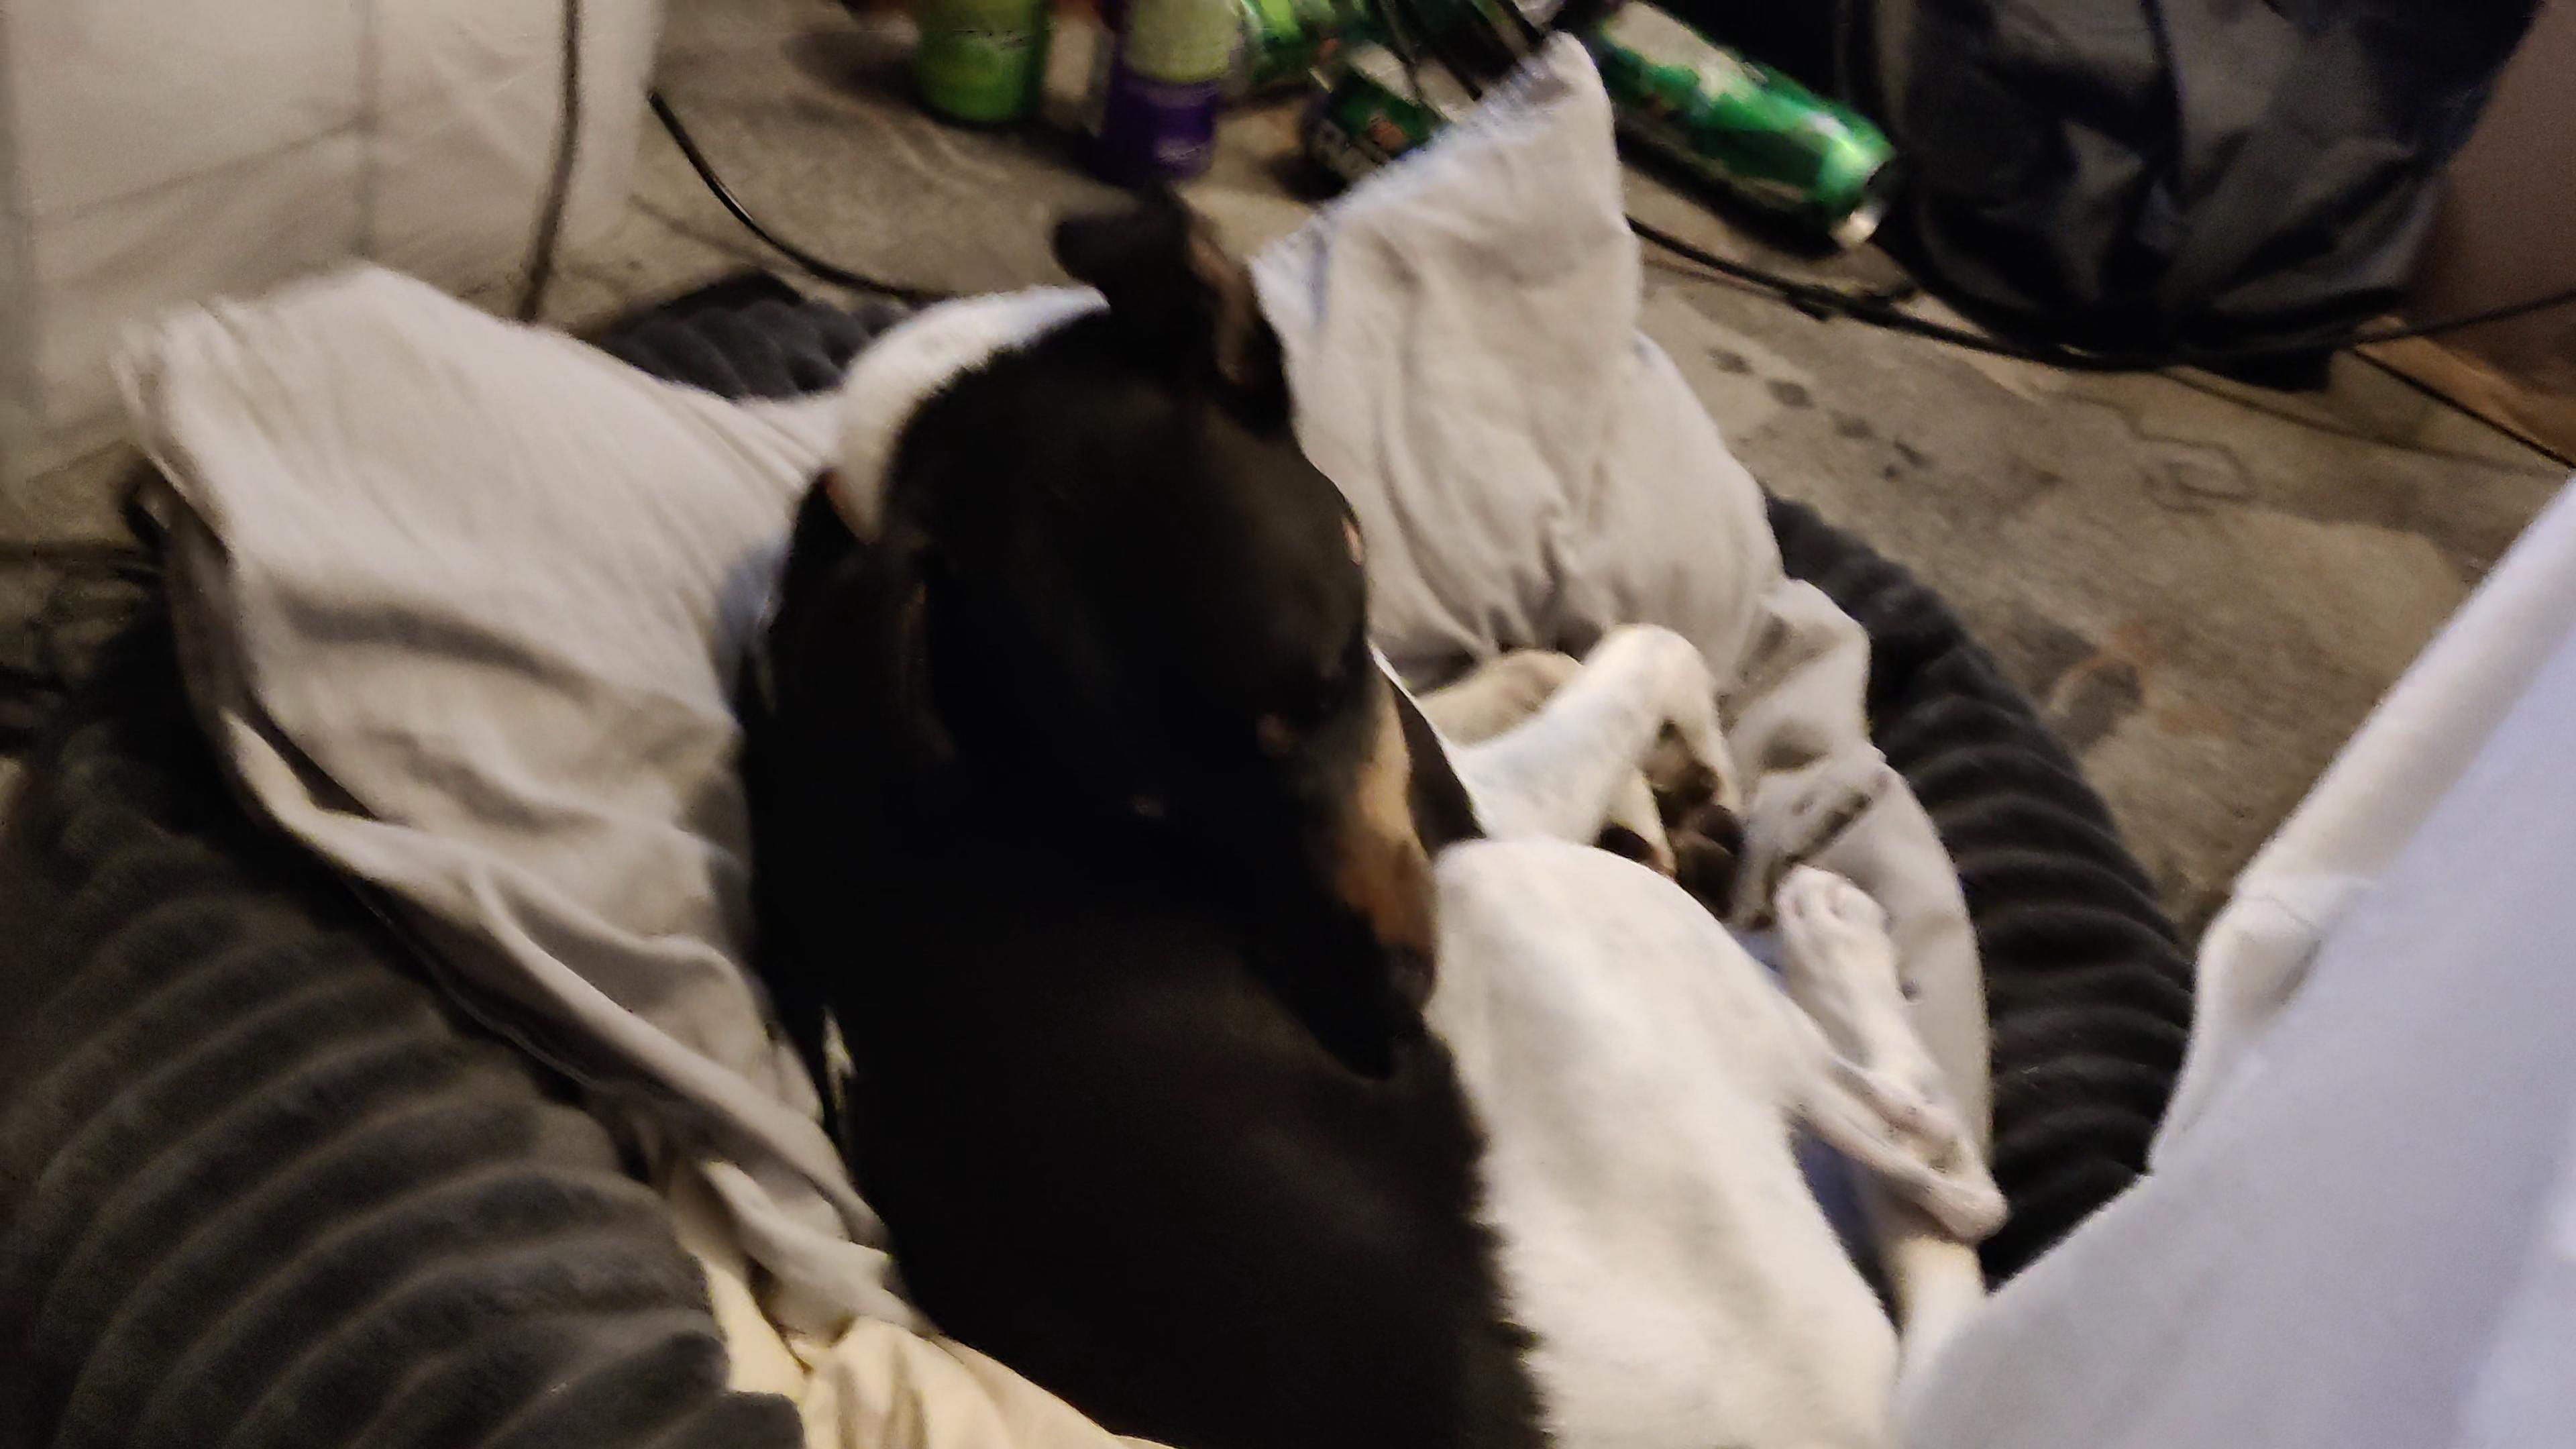Dog: (717, 179, 2035, 1449)
